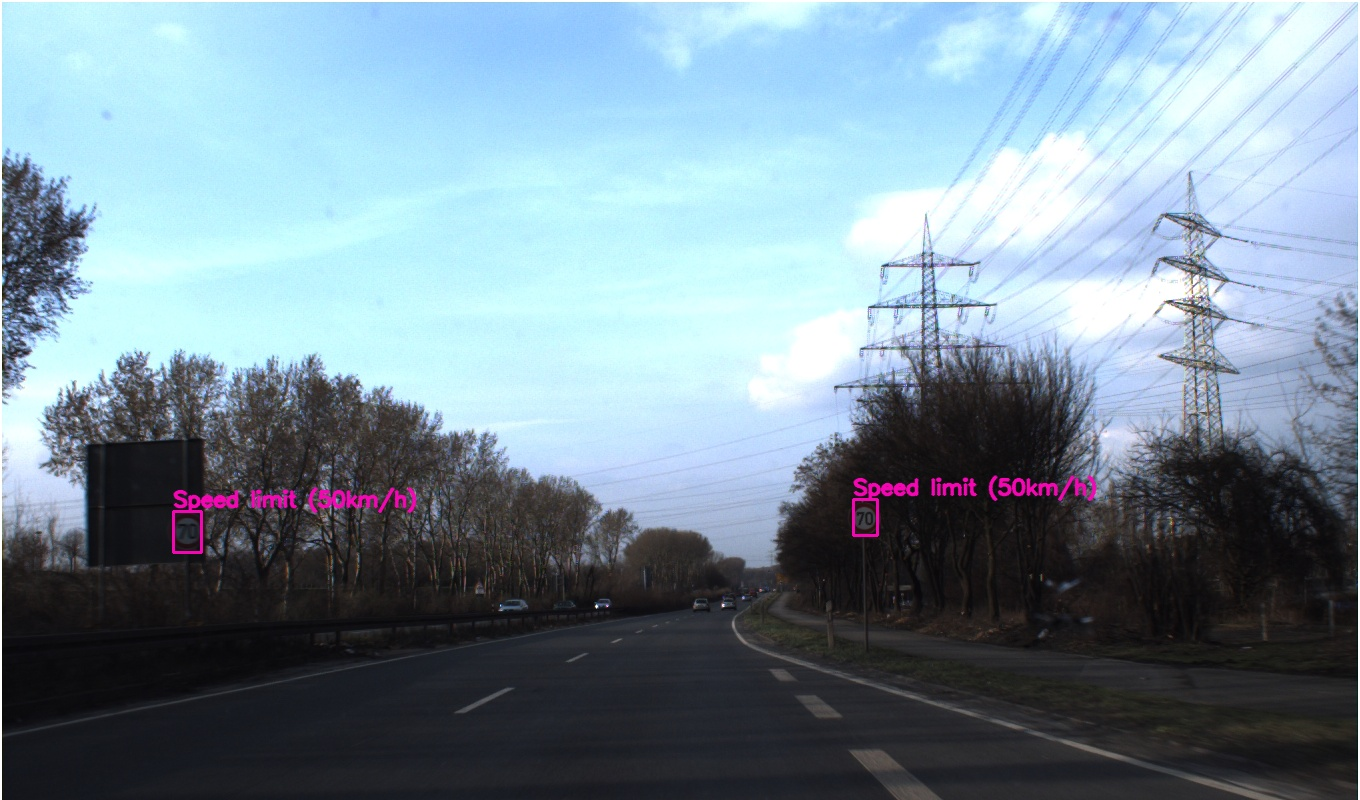No passing: (1172, 164, 1284, 278)
